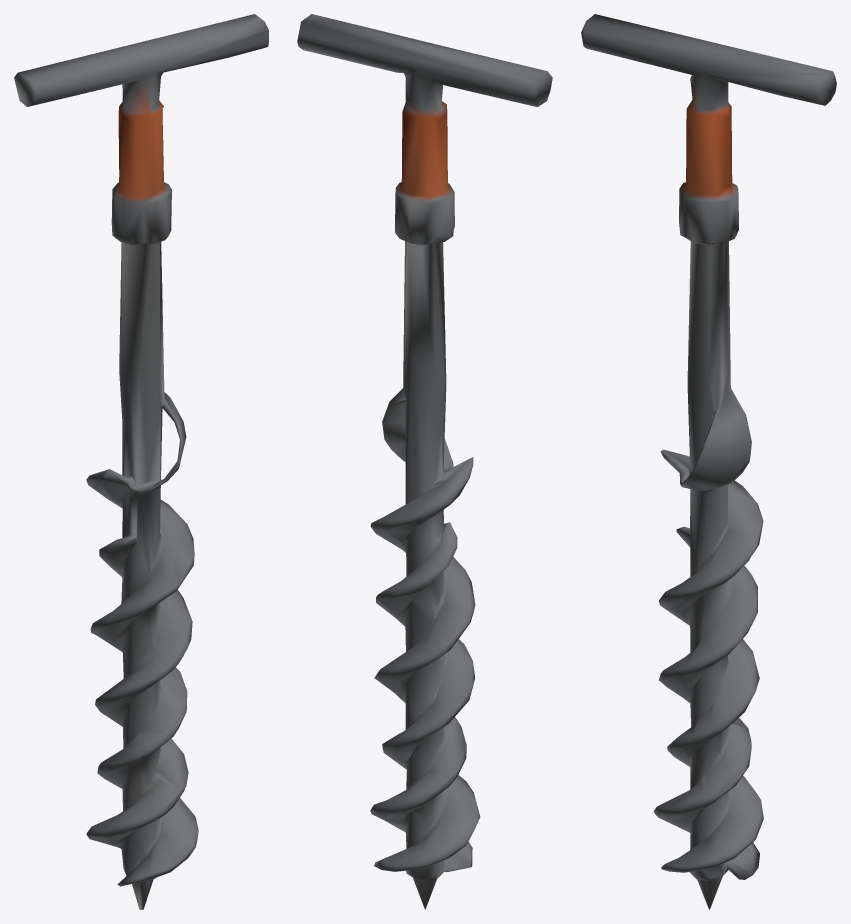
The model's file is gen3d-ice-auger-lod1.glb.
3 views of the same model, side by side, from view 1: azimuth 30°, elevation 25°; view 2: azimuth 150°, elevation 25°; view 3: azimuth 330°, elevation 25° (orthographic).
Visible parts, largest first — view 1: part_0; view 2: part_0; view 3: part_0.
Part boxes in pixels (box(x1,y1,x2,y2)): part_0: box(14, 14, 268, 909); part_0: box(297, 14, 552, 909); part_0: box(581, 14, 836, 909).
Size of the model in its own units: 0.287 by 0.9977 by 0.1155.
